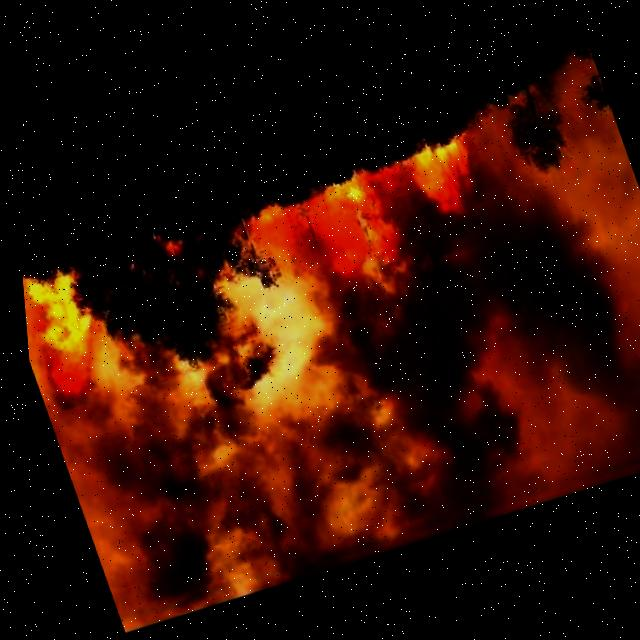Fire: (298, 128, 514, 315), (17, 259, 117, 417)
Smoke: (15, 185, 640, 637)
